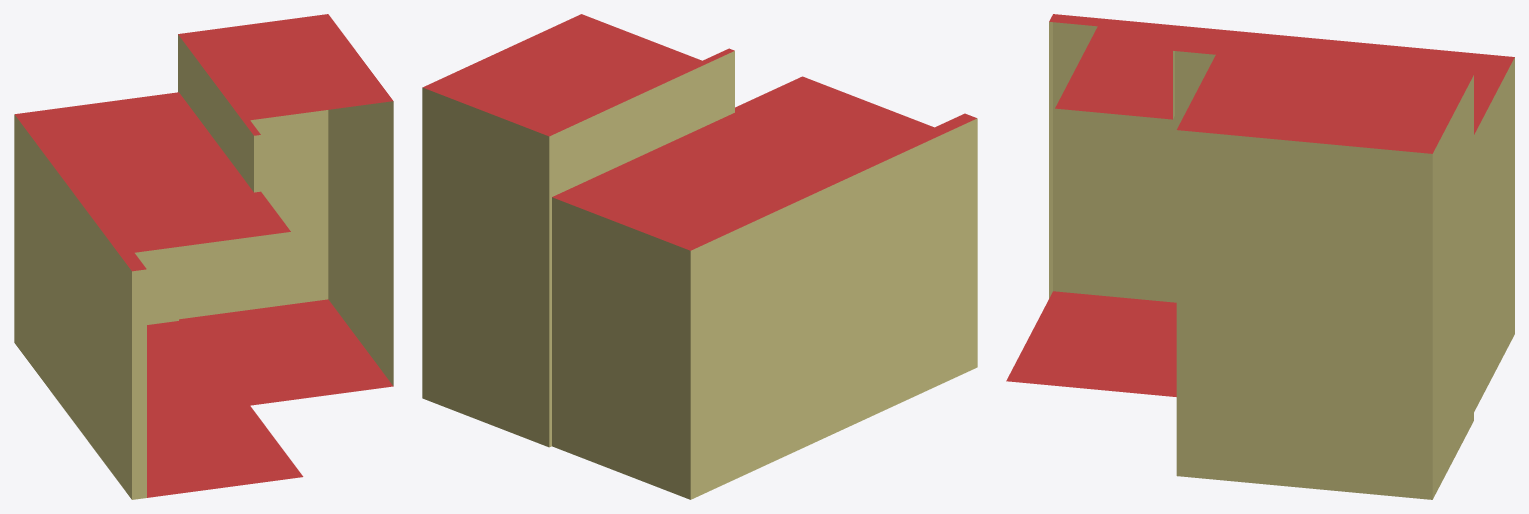
The picture shows the model from 3 angles, left to right: view 1: azimuth 30°, elevation 25°; view 2: azimuth 150°, elevation 25°; view 3: azimuth 270°, elevation 25°; orthographic projection. The views are drawn at different scales.
Visible parts, largest first — view 1: group_4, group_7, group_6, group_8, group_3, group_5; view 2: group_7, group_4, group_6, group_3; view 3: group_4, group_7, group_3, group_6, group_8.
Boxes of the visible parts, x1,y1,x2,y2 form: group_4: (178, 34, 393, 385); group_7: (14, 114, 178, 499); group_6: (15, 92, 290, 271); group_8: (147, 321, 303, 497); group_3: (178, 14, 392, 135); group_5: (179, 299, 393, 420); group_7: (552, 118, 977, 499); group_4: (422, 51, 734, 447); group_6: (552, 76, 976, 250); group_3: (423, 14, 734, 136); group_4: (1173, 51, 1473, 499); group_7: (1049, 22, 1514, 411); group_3: (1173, 47, 1473, 153); group_6: (1049, 14, 1514, 134); group_8: (1006, 291, 1176, 396).
Bounding box in the file's own units: 11.18 × 11.51 × 8.64.
